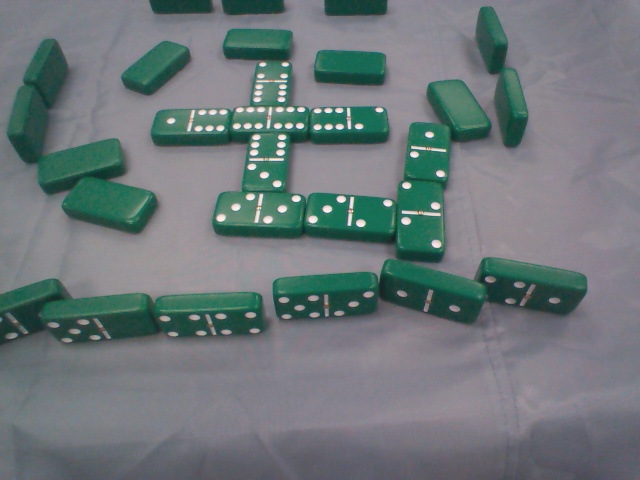A: (61, 171, 160, 235), (421, 74, 495, 144), (117, 33, 191, 97), (36, 143, 131, 187), (311, 47, 389, 83), (221, 25, 294, 60)
B: (302, 192, 396, 245), (394, 175, 448, 258), (213, 190, 305, 238), (304, 101, 393, 145), (228, 99, 312, 143), (150, 103, 231, 147), (403, 121, 452, 184), (245, 131, 290, 192), (247, 58, 293, 107)
C: (21, 36, 71, 103), (9, 84, 51, 159)
D: (492, 66, 532, 151), (473, 7, 515, 71)
E: (377, 254, 483, 328), (480, 252, 586, 320), (38, 298, 157, 347), (153, 291, 268, 341), (271, 273, 380, 320), (2, 277, 62, 353)
F: (322, 1, 394, 20), (146, 1, 220, 18), (215, 1, 292, 15)
